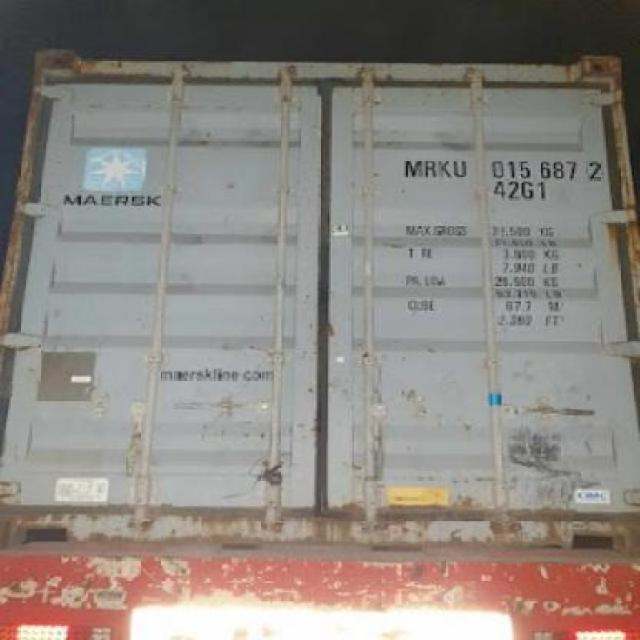ISO: (494, 182, 548, 202)
container_number: (397, 156, 592, 180)
